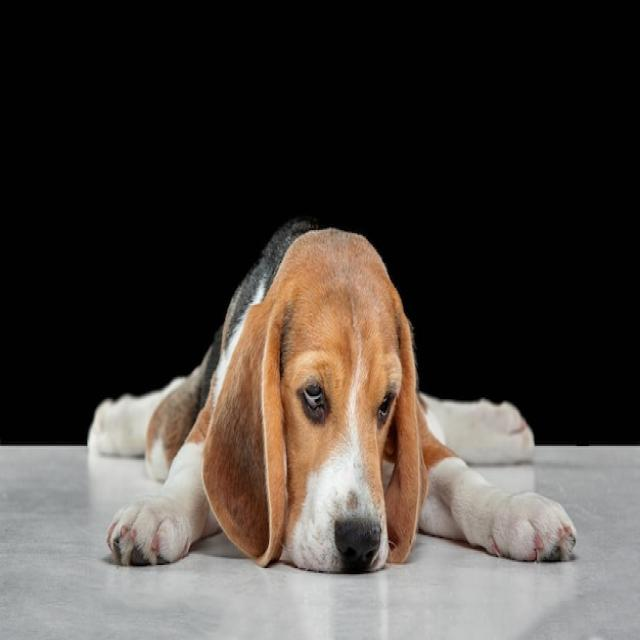Dog: (88, 217, 578, 575)
